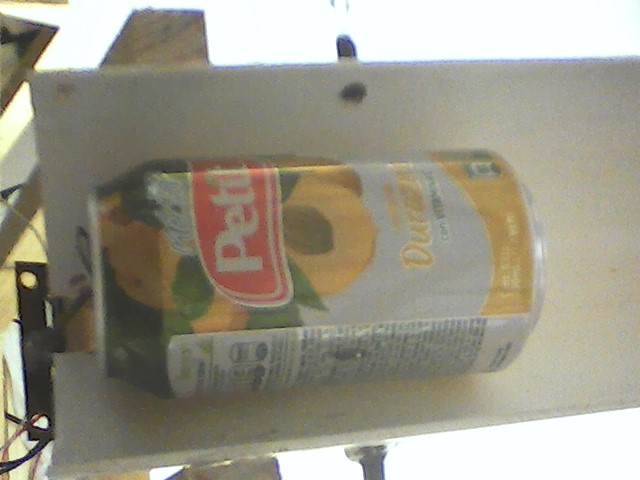lata: (78, 143, 551, 400)
